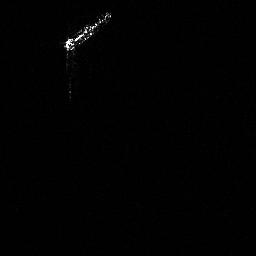ship: (60, 6, 114, 57)
